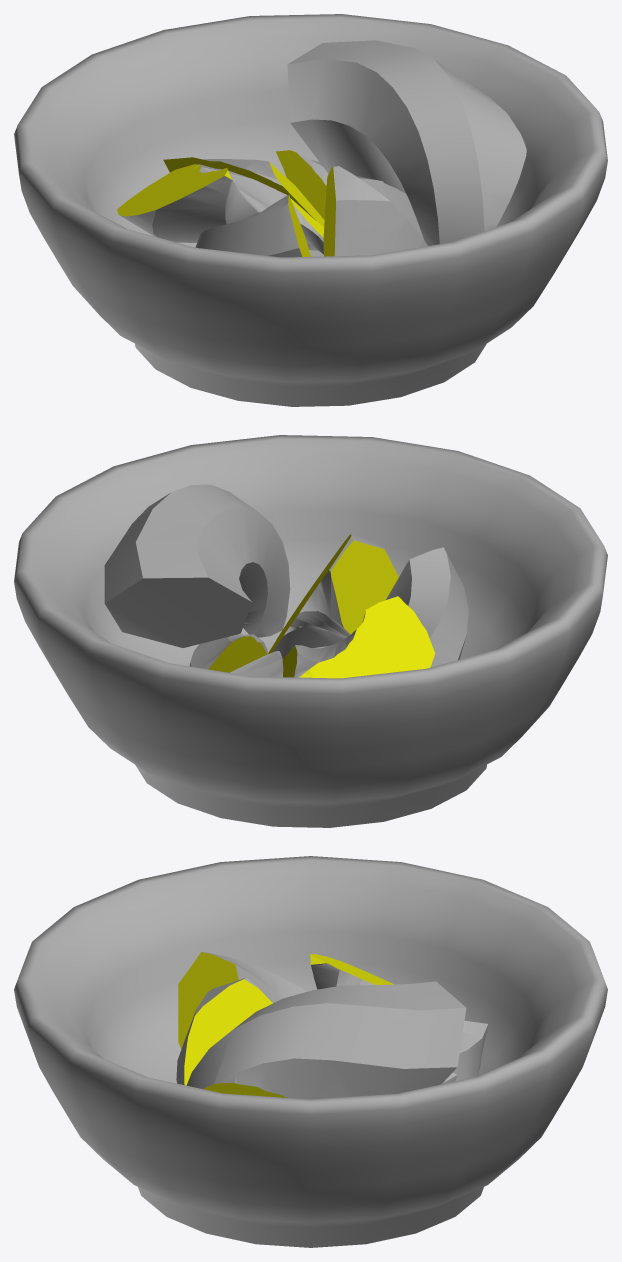
The model's file is CutTentacleInBowl.fbx.
The picture shows the model from 3 angles, top to bottom: view 1: azimuth 30°, elevation 25°; view 2: azimuth 150°, elevation 25°; view 3: azimuth 270°, elevation 25°; orthographic projection.
Parts seen in each view (by area): view 1: cuenco, shard1, shard2, shard3, shard5, shard4, shard6; view 2: cuenco, shard1, shard3, shard2, shard5, shard6, shard4; view 3: cuenco, shard1, shard3, shard5, shard2, shard4.
Boxes of the visible parts, x1,y1,x2,y2 form: cuenco: (14,14,607,406); shard1: (287,40,526,245); shard2: (117,164,323,254); shard3: (323,166,427,256); shard5: (195,194,310,257); shard4: (163,157,324,227); shard6: (276,150,370,219); cuenco: (14,435,607,827); shard1: (104,484,290,647); shard3: (268,534,398,659); shard2: (282,596,434,678); shard5: (386,547,468,667); shard6: (189,634,268,672); shard4: (229,651,283,677); cuenco: (14,856,607,1247); shard1: (186,981,466,1099); shard3: (176,977,273,1085); shard5: (178,952,306,1048); shard2: (310,954,393,989); shard4: (453,1021,488,1080).
Bounding box in the file's own units: 97.95 × 42.86 × 97.95.
